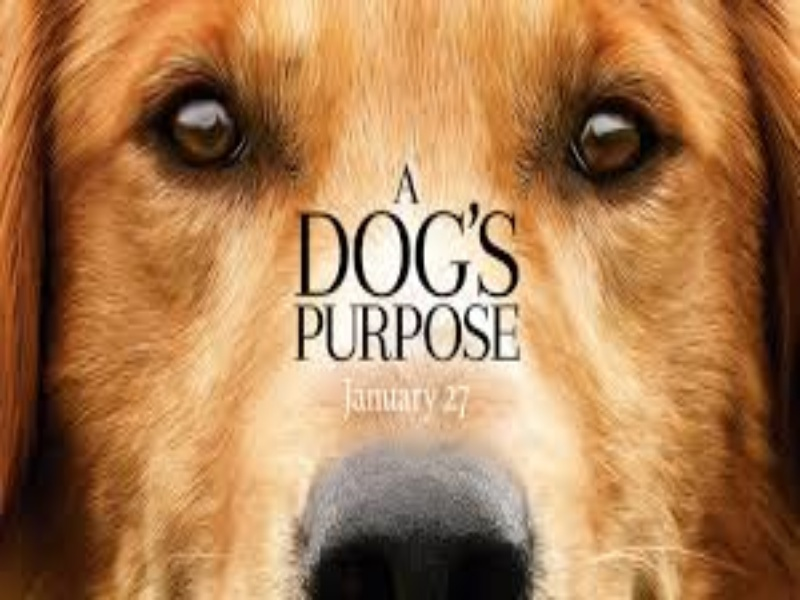dog: (17, 9, 797, 589)
